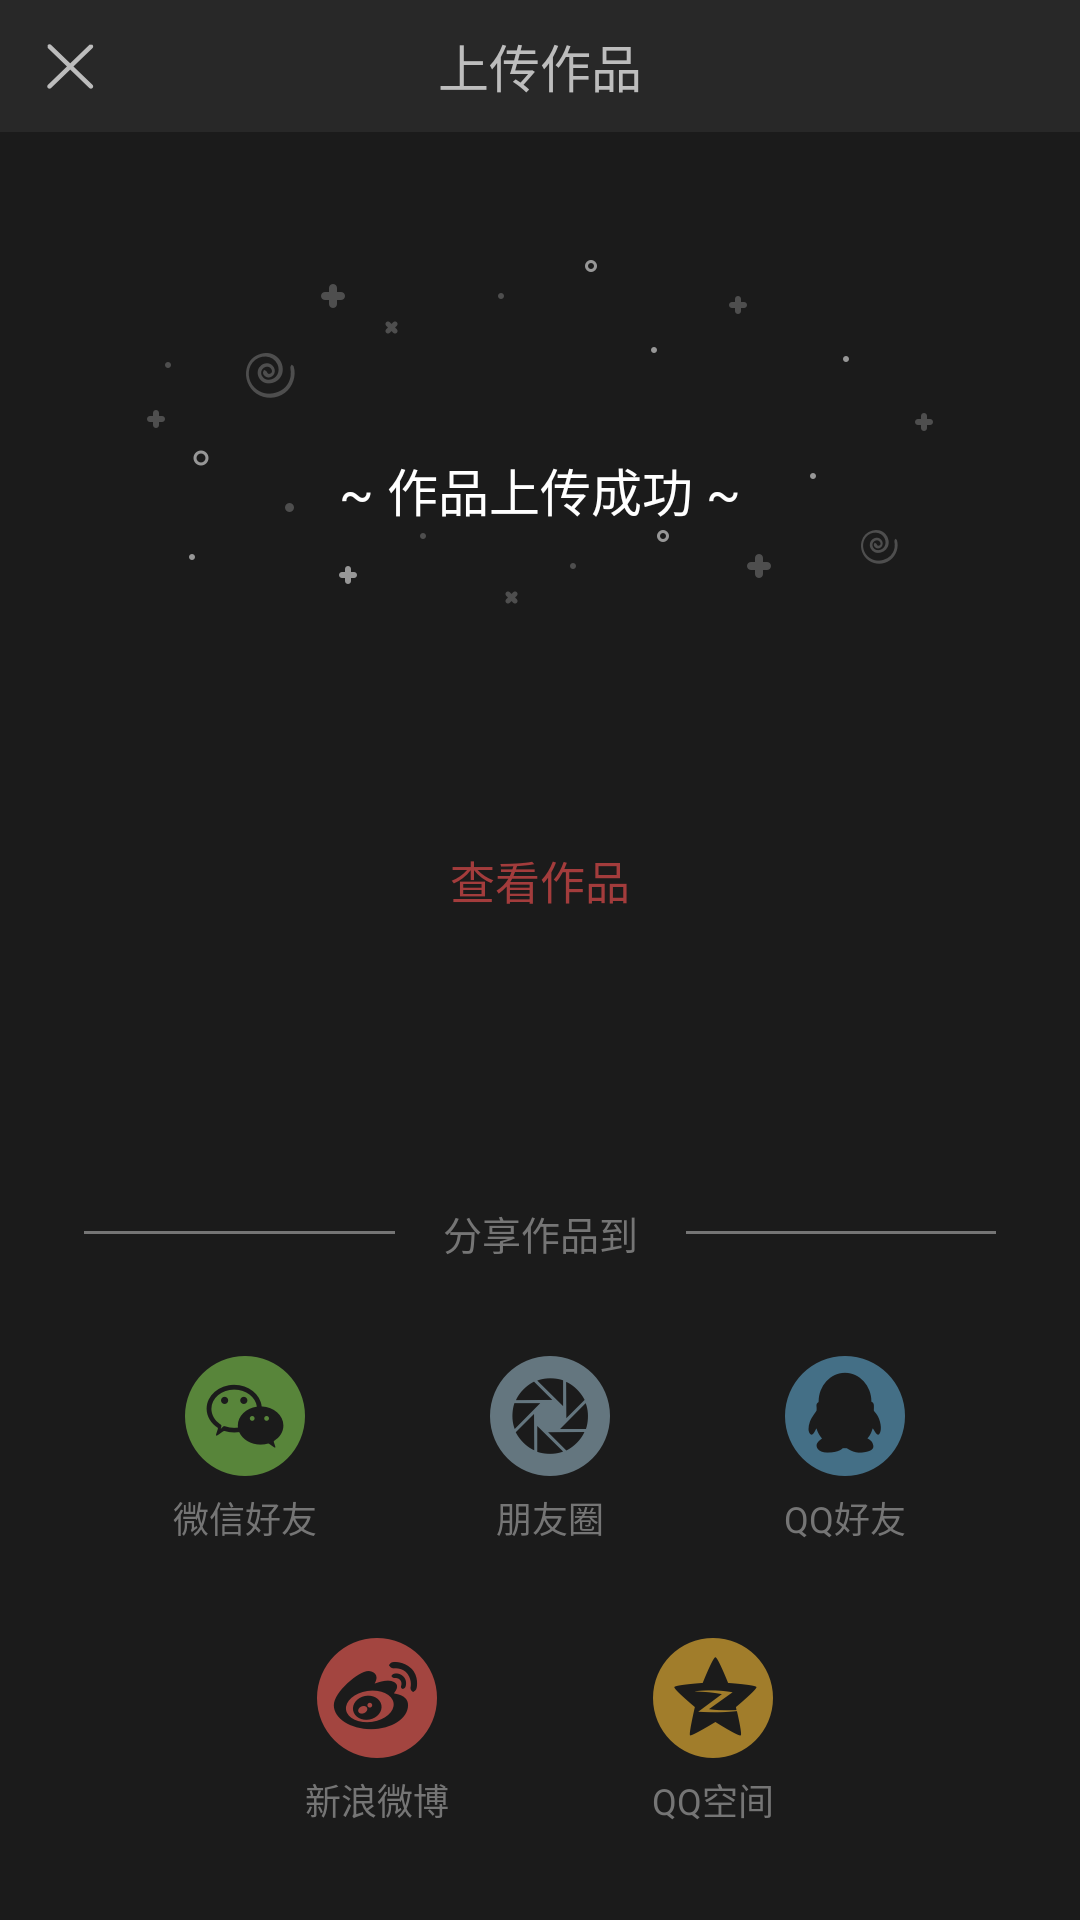

Named icons in this screenshot (1080x1920) and their centers, point (x, y):
back: point (70, 66)
